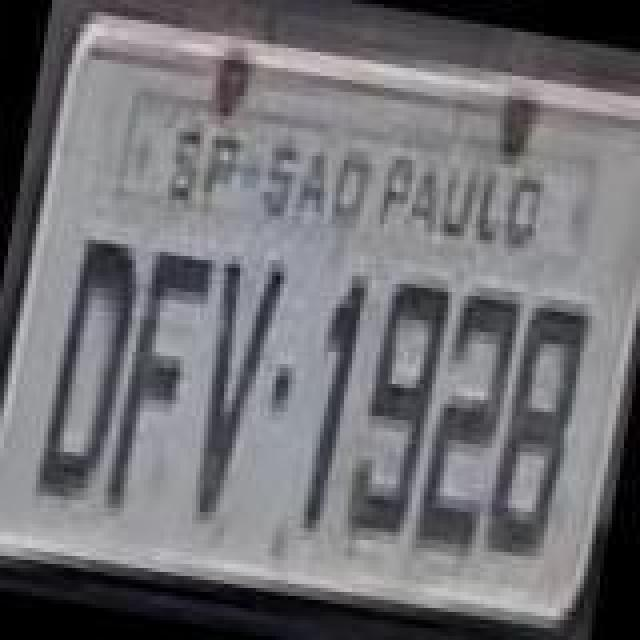1: (290, 262, 374, 538)
2: (406, 282, 522, 558)
8: (480, 296, 592, 568)
9: (340, 270, 452, 546)
D: (28, 228, 148, 508)
F: (104, 246, 216, 522)
V: (176, 252, 288, 532)
